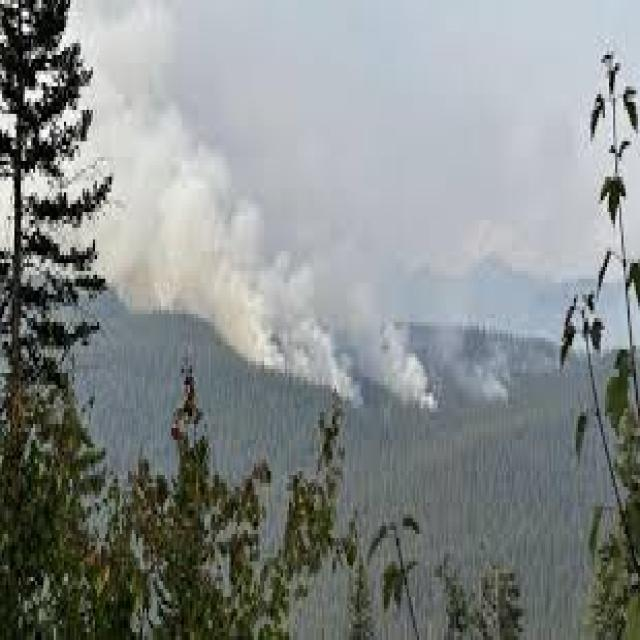Smoke: (128, 24, 438, 426), (118, 3, 362, 410), (446, 312, 518, 418)
